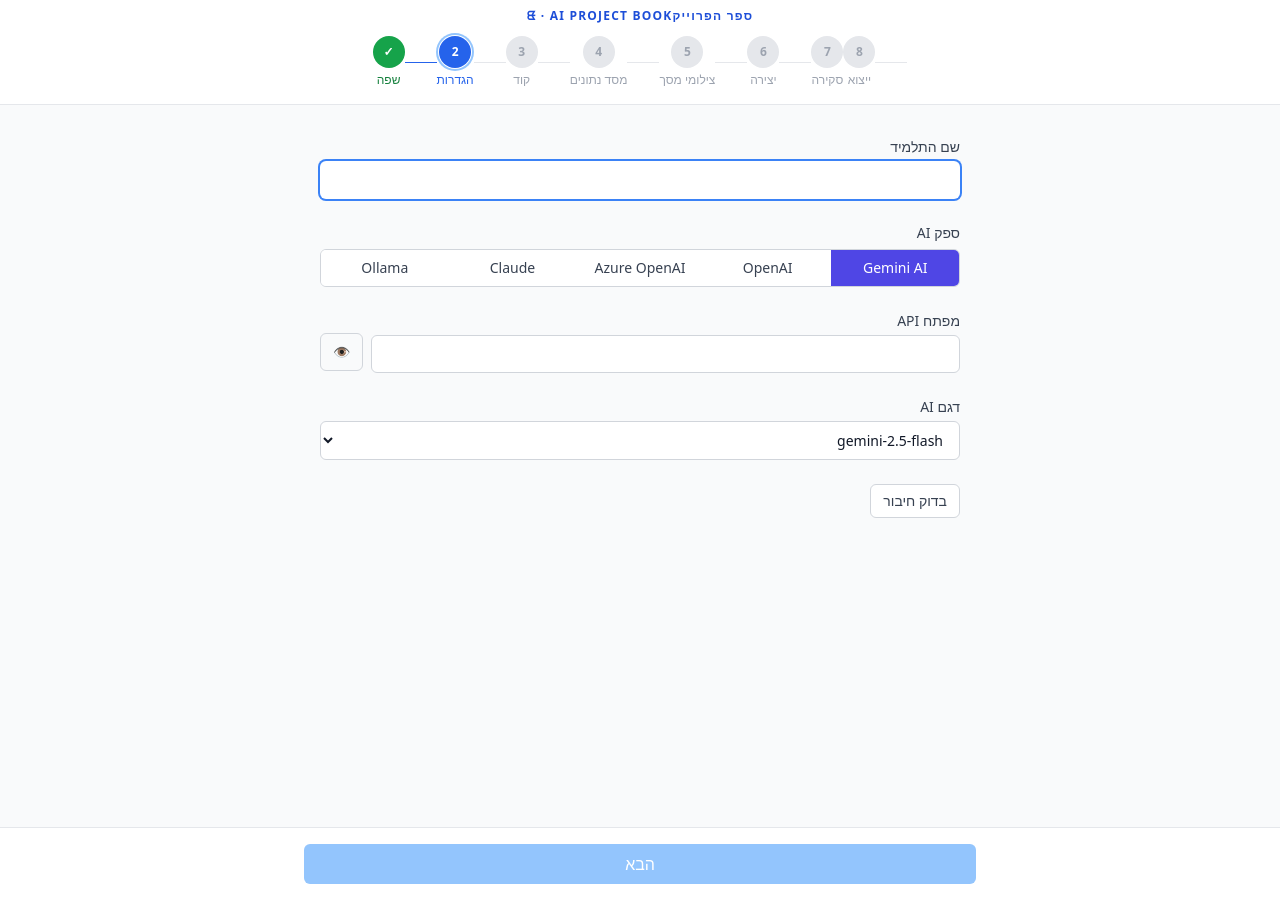
it: SetupPage › shows success message on successful connection test
The image size is (1280, 900).
In the field labelled "שם התלמיד": (640, 180) [320,161,960,199], type "Test Student"
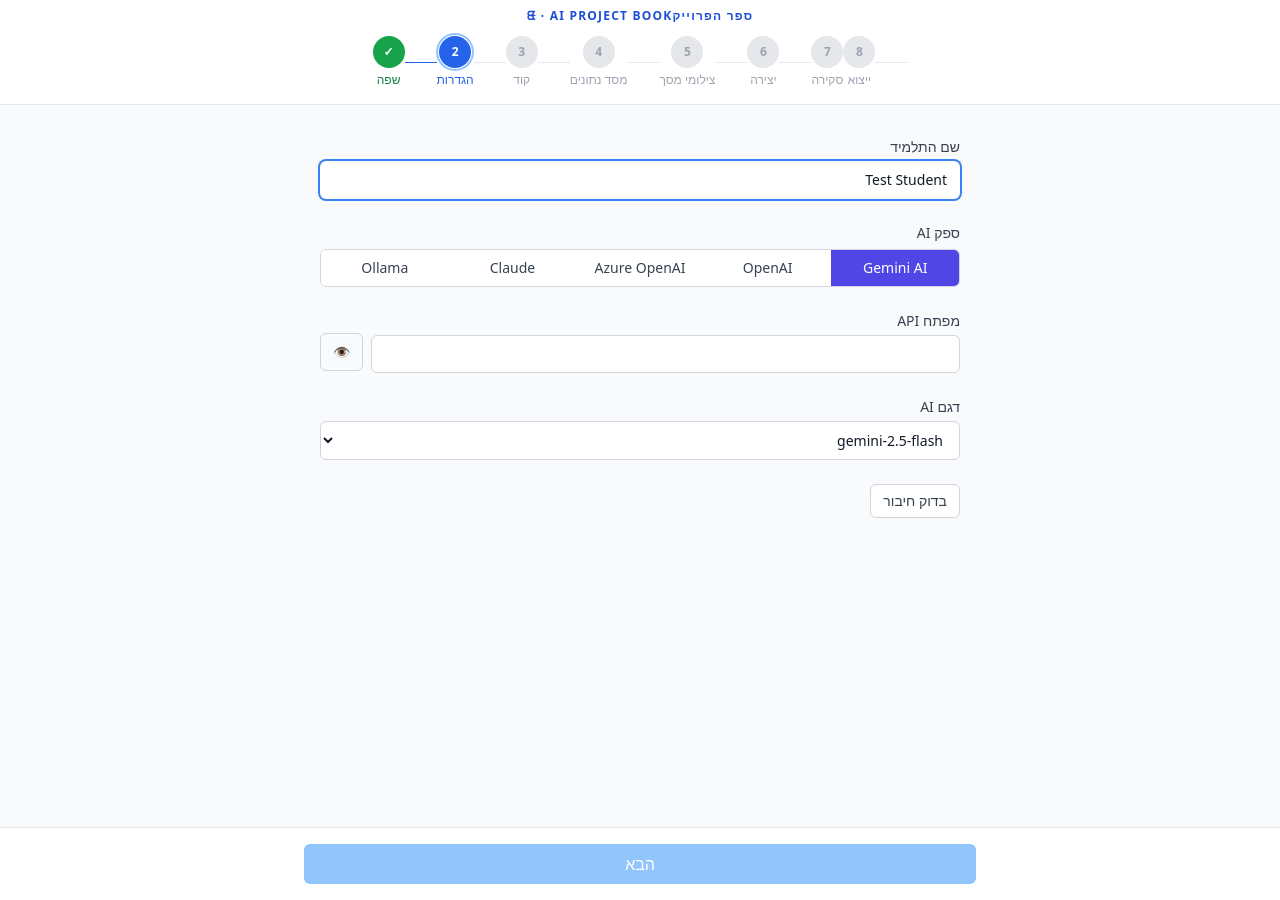
In the password field labelled "מפתח API": (666, 354) [371,335,960,373], type "AIzaXXXX"
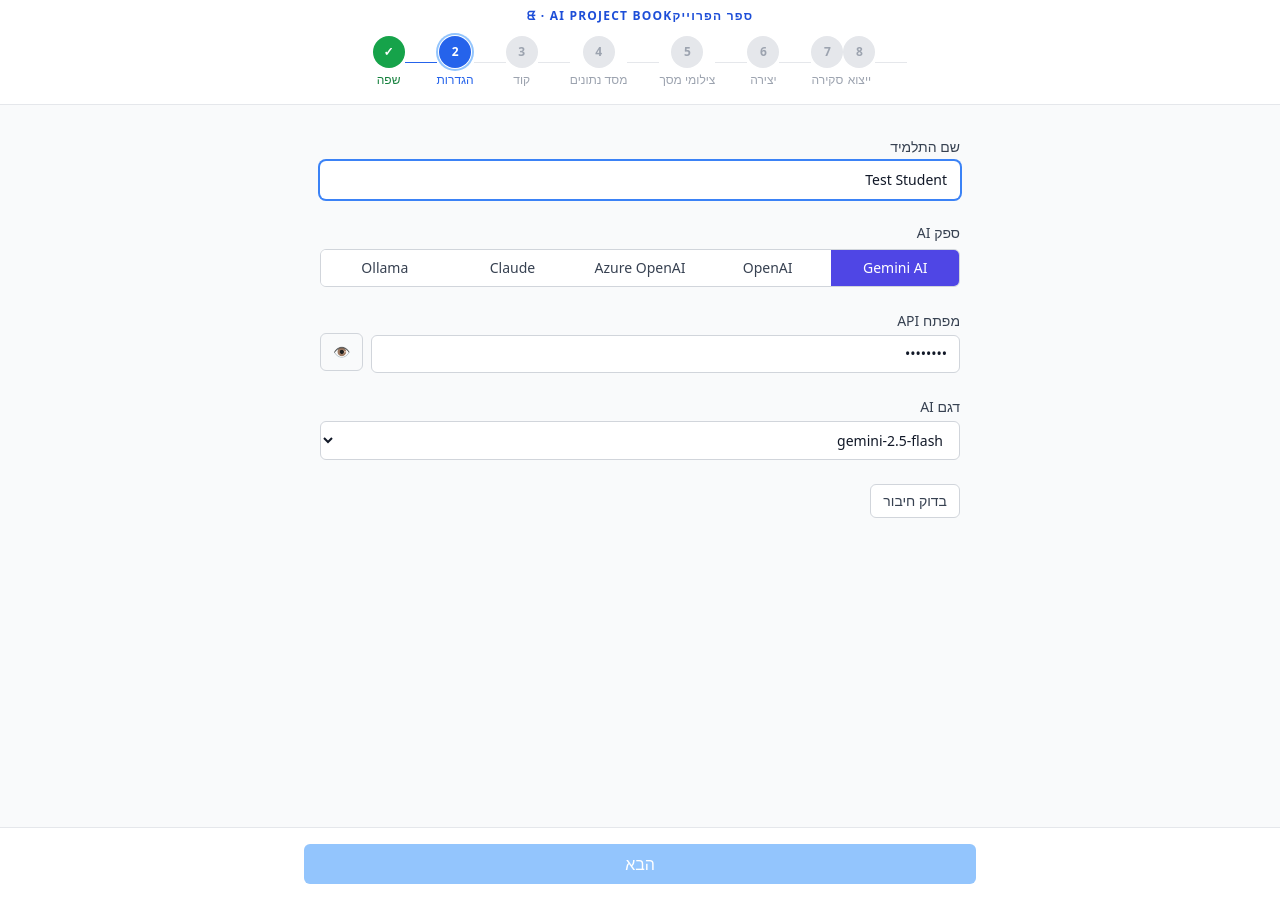
Click the button "בדוק חיבור": (915, 501) [870,484,960,518]
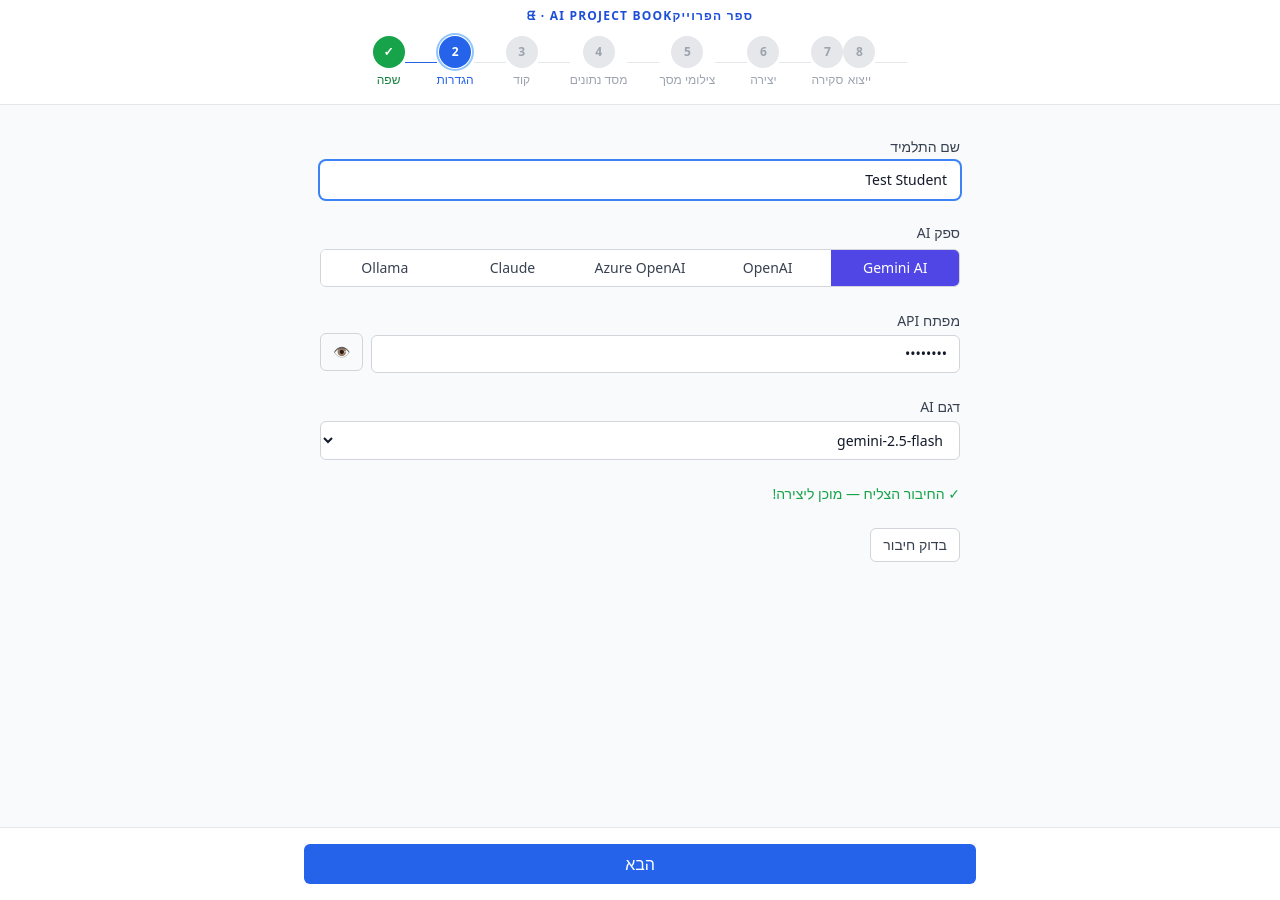
Result: the text "✓ החיבור הצליח — מוכן ליצירה!" is shown at [772,484,960,503]
